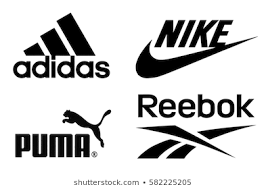adidas: (12, 12, 111, 80)
nike: (135, 35, 256, 79)
